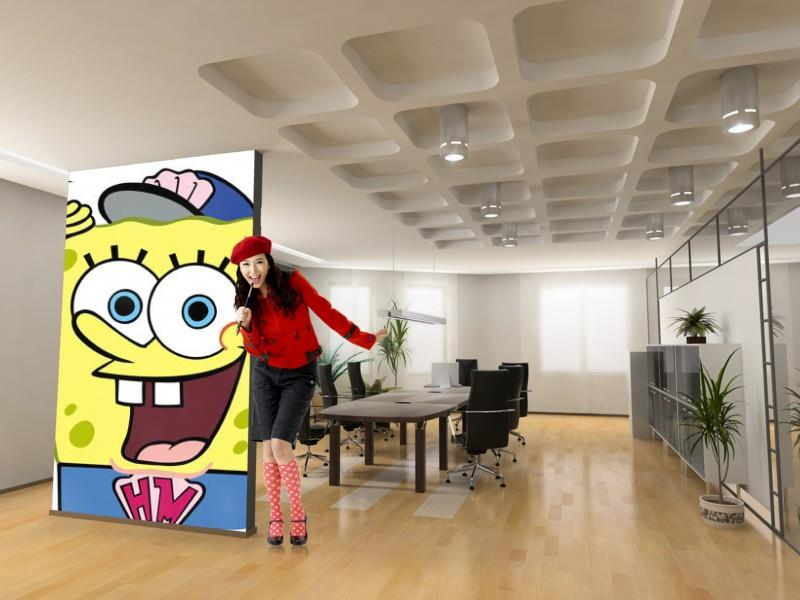SpongeBob: (42, 162, 251, 532)
